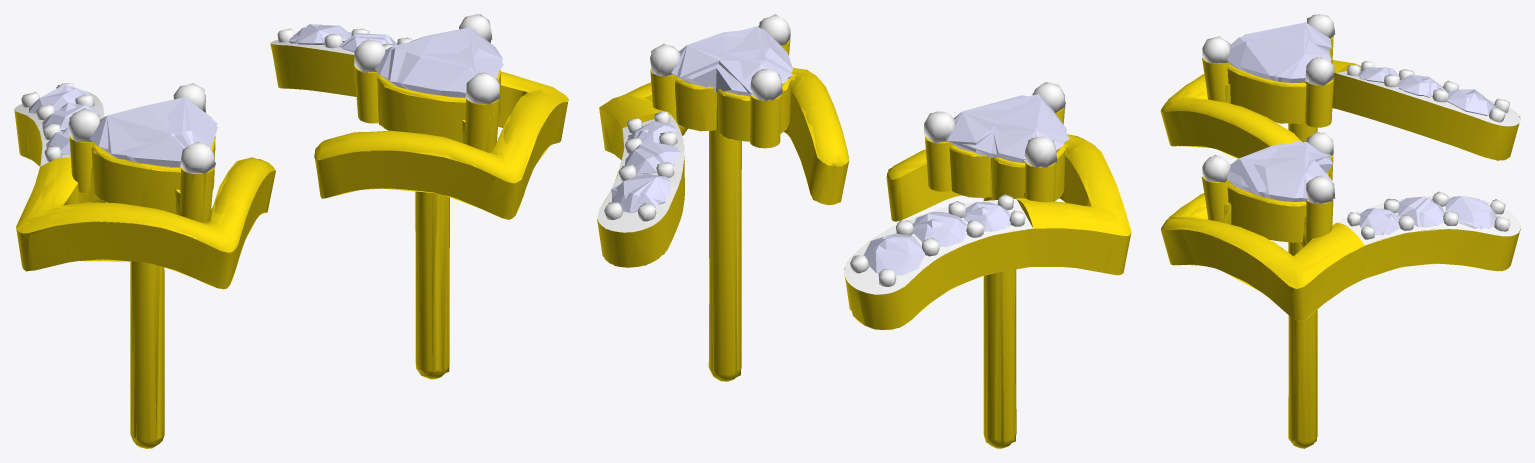
3 renders of one model, left to right at view 1: azimuth 30°, elevation 25°; view 2: azimuth 150°, elevation 25°; view 3: azimuth 270°, elevation 25°, orthographic. The views are drawn at different scales.
Visible parts, largest first — view 1: highPolyMesh, lowPolyMesh; view 2: highPolyMesh, lowPolyMesh; view 3: highPolyMesh, lowPolyMesh.
Part boxes in pixels (x1=…): highPolyMesh: x1=14, y1=14, x2=567, y2=448; lowPolyMesh: x1=14, y1=14, x2=568, y2=448; highPolyMesh: x1=597, y1=16, x2=1130, y2=448; lowPolyMesh: x1=597, y1=14, x2=1131, y2=448; highPolyMesh: x1=1161, y1=14, x2=1520, y2=448; lowPolyMesh: x1=1160, y1=14, x2=1520, y2=448.
Size of the model in its own units: 0.014 by 0.00834 by 0.00934.
